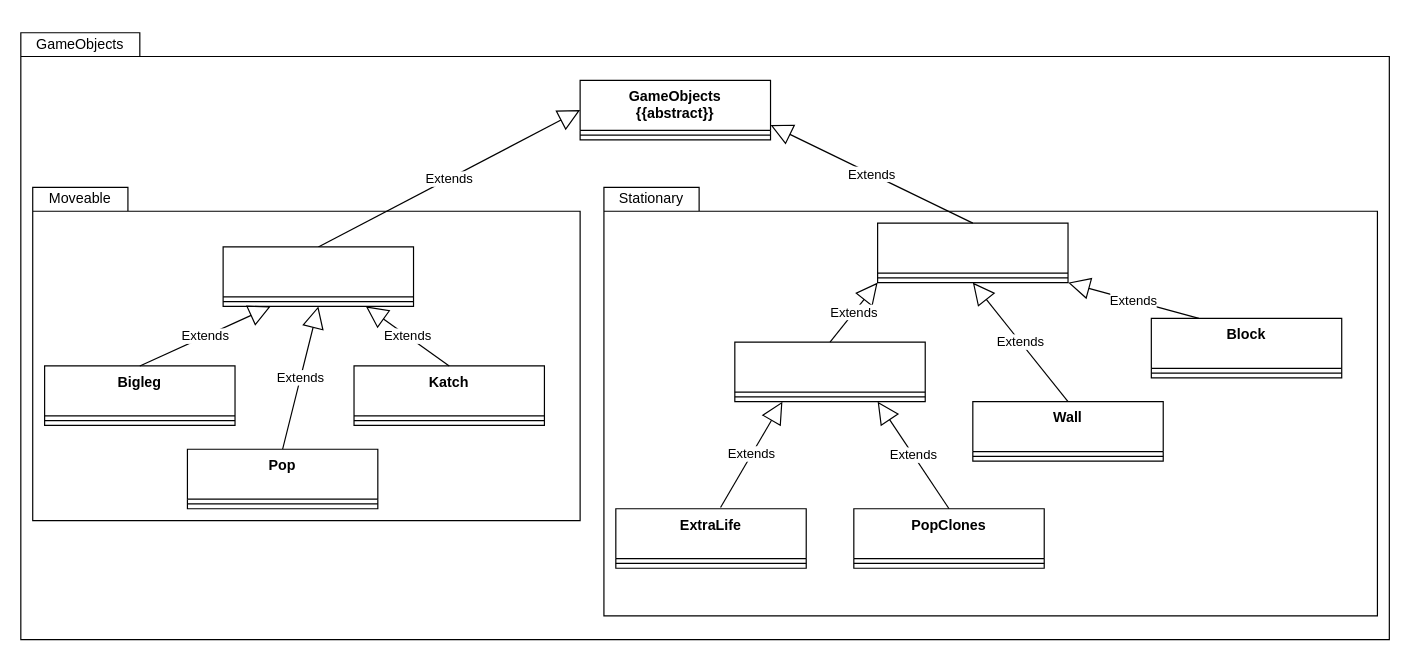
Image size: 1410x660. Some labels were removed from this diagram. The centre of each missing label's shape, as x and y in pixels:
"Moveable {{abstract}}" goes at pixel 318 276.
"PowerUp {{abstract}}" goes at pixel 829 371.
"Stationary {{abstract}}" goes at pixel 972 252.
